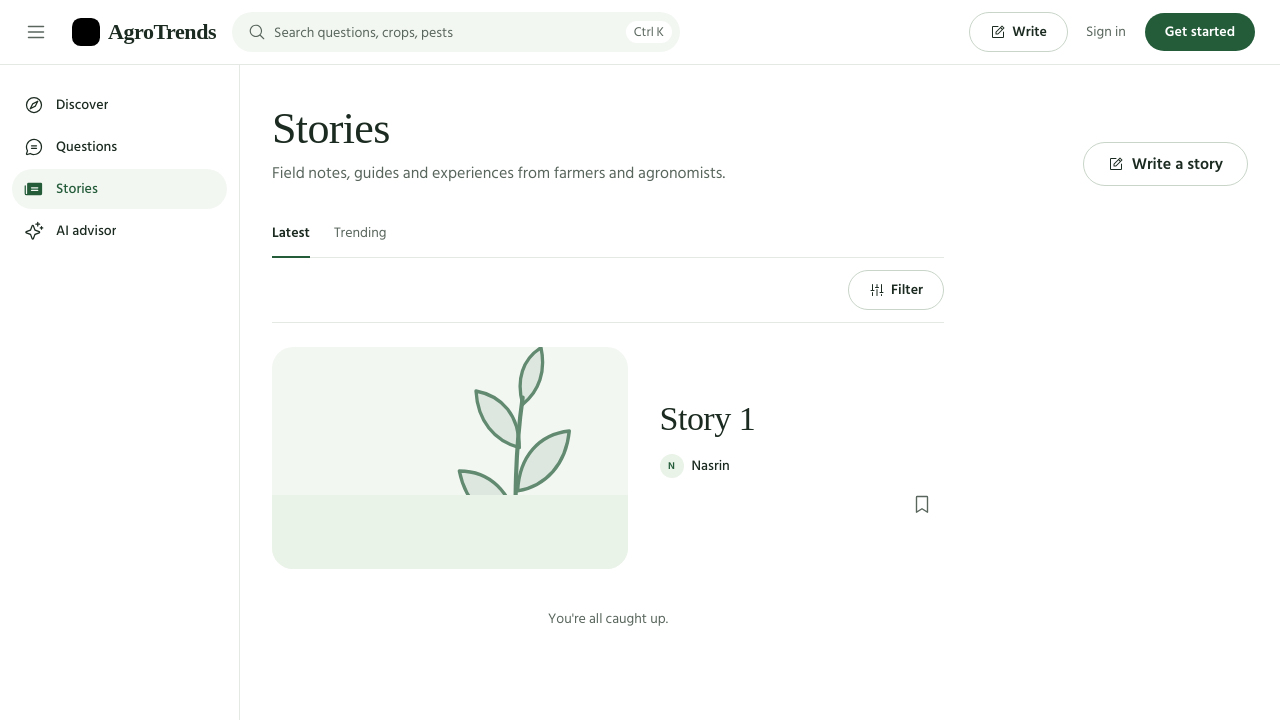
Test: choosing a season filters the stories, and removing it clears it
Check: the link "Story 1" is shown, box [660, 400, 755, 437]
Click the button with aria-label "Filter by crop, season, region or soil" at (896, 290), box [848, 270, 944, 310]
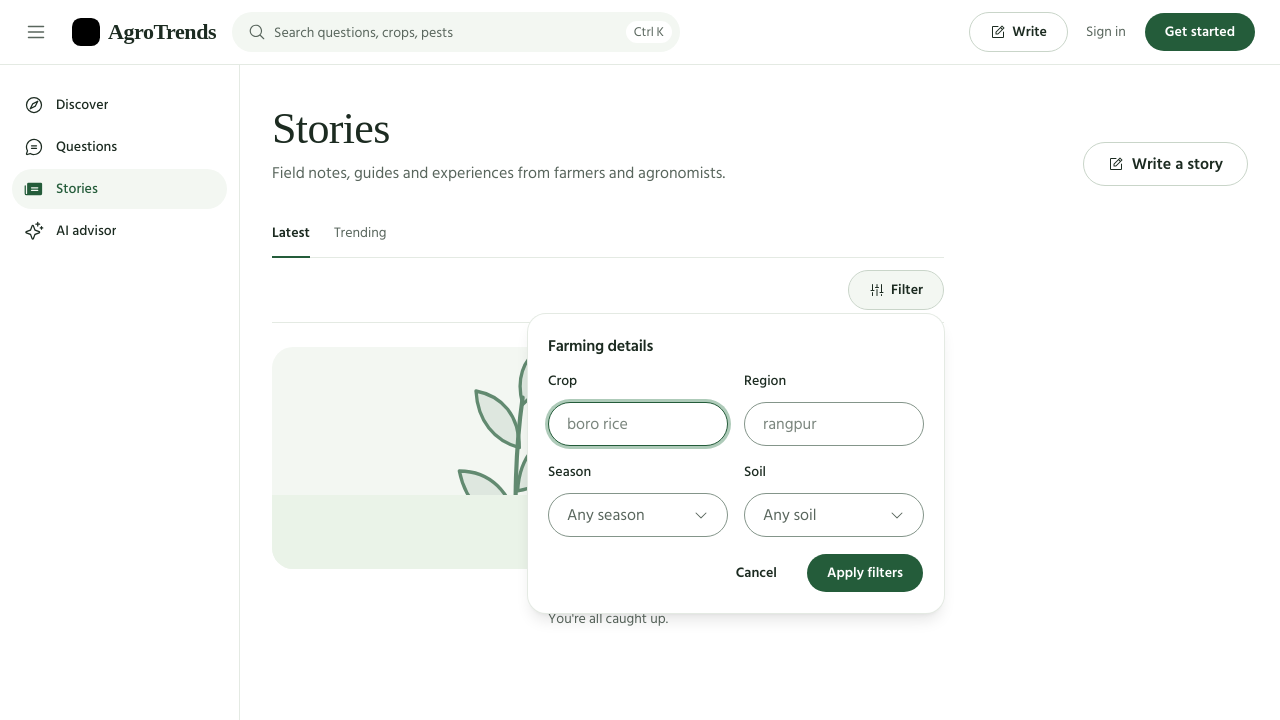
Click the dropdown labelled "season" at (638, 515), box [548, 493, 728, 537]
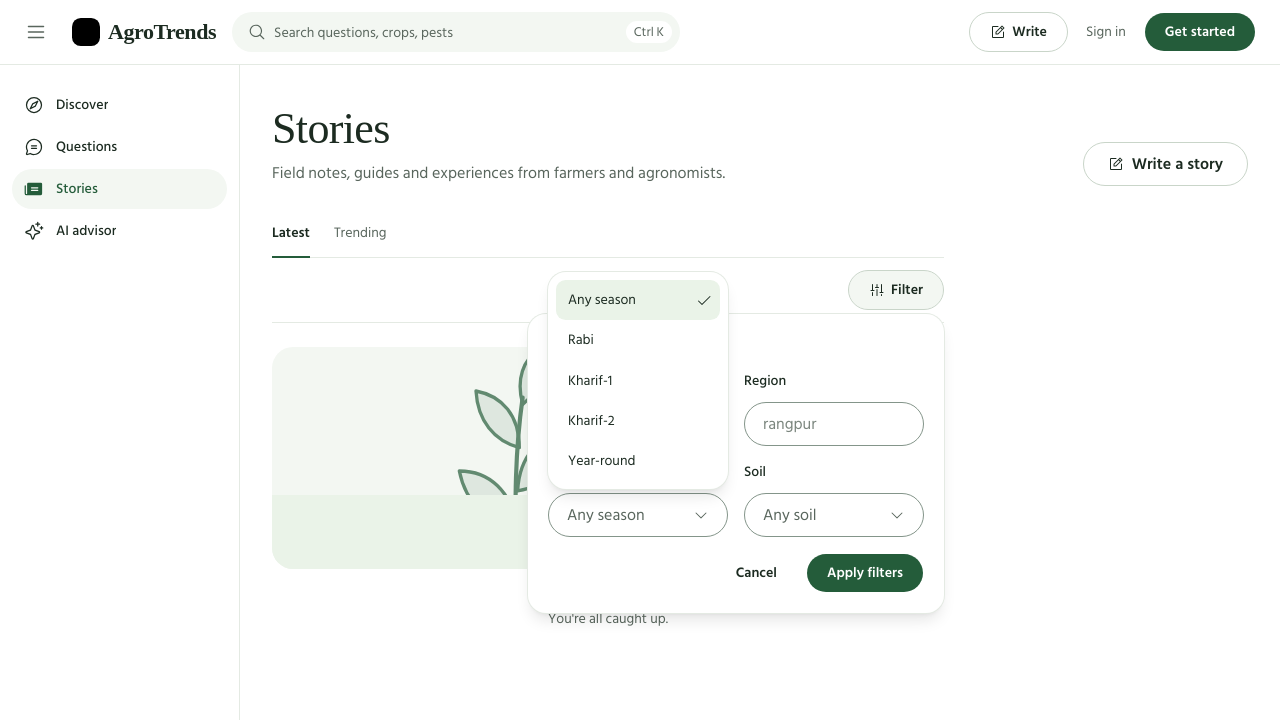
Click the option "Kharif-2" at (591, 420), box [568, 409, 615, 432]
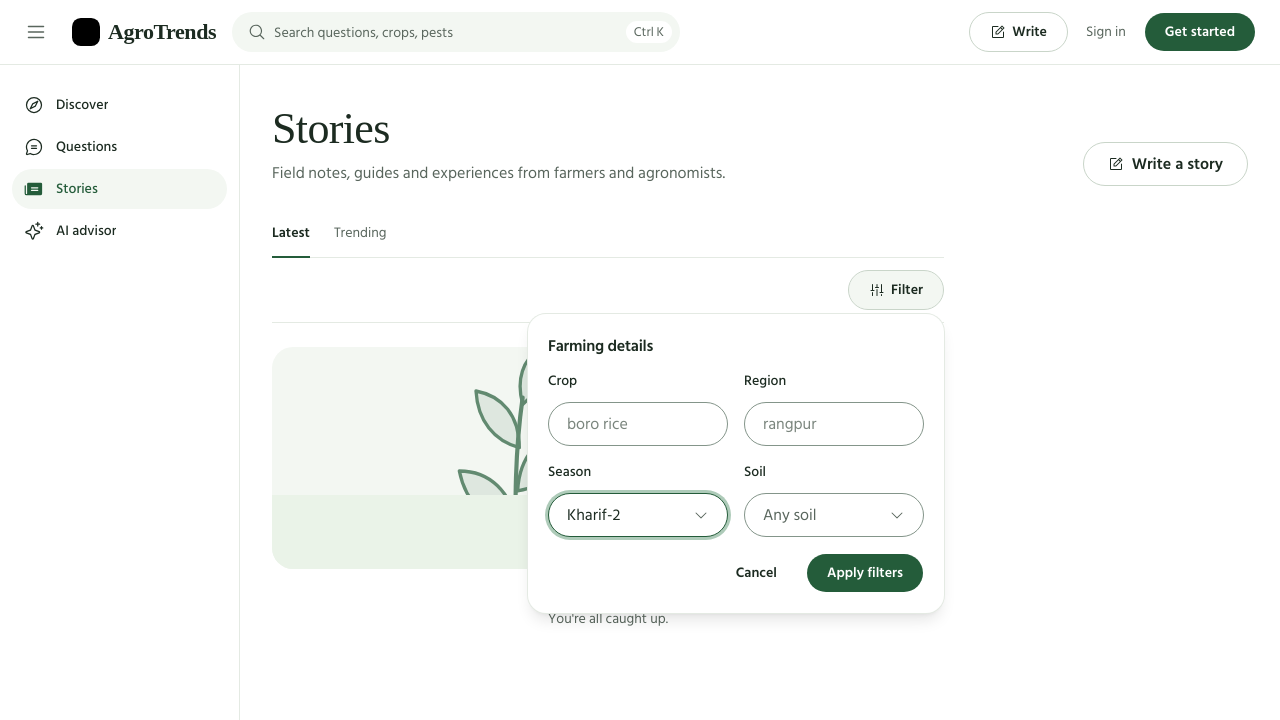
Click the button "Apply filters" at (865, 573), box [806, 553, 924, 593]
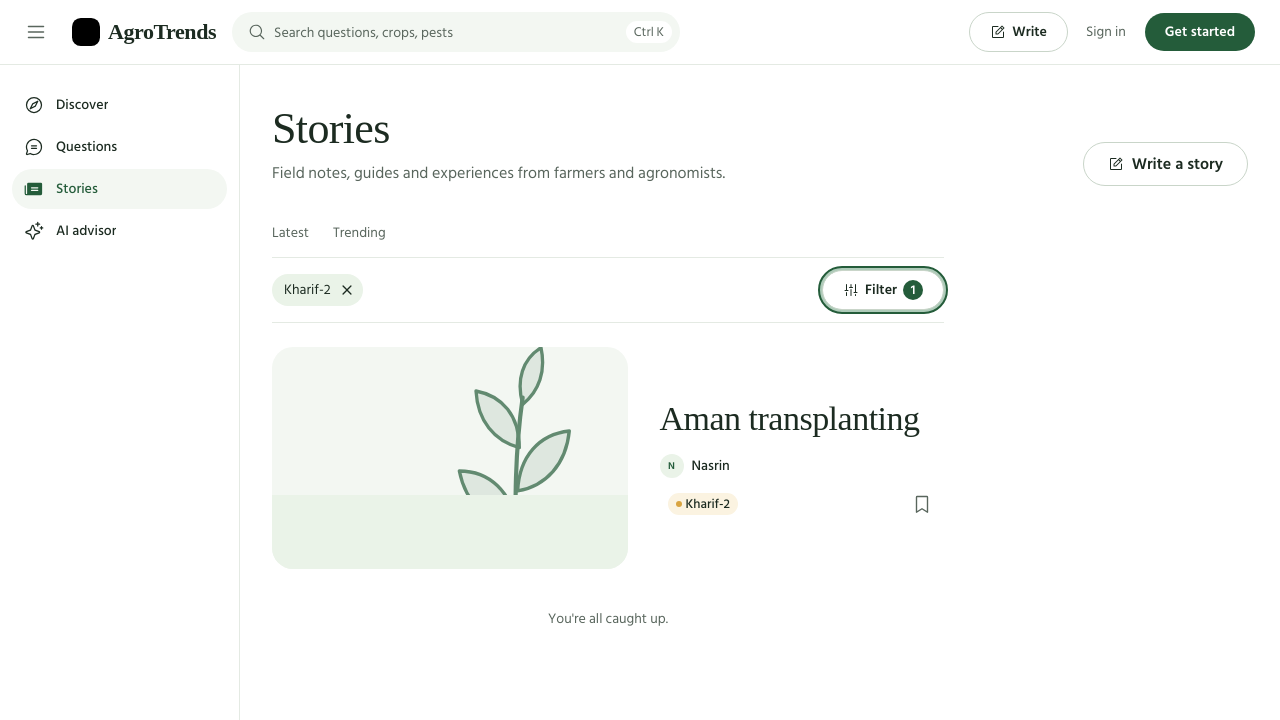
Check: the link "Aman transplanting" is shown, box [660, 400, 919, 437]
Click the link named "Remove filter season Kharif-2" at (347, 290), box [340, 283, 354, 297]
(page scrolled)
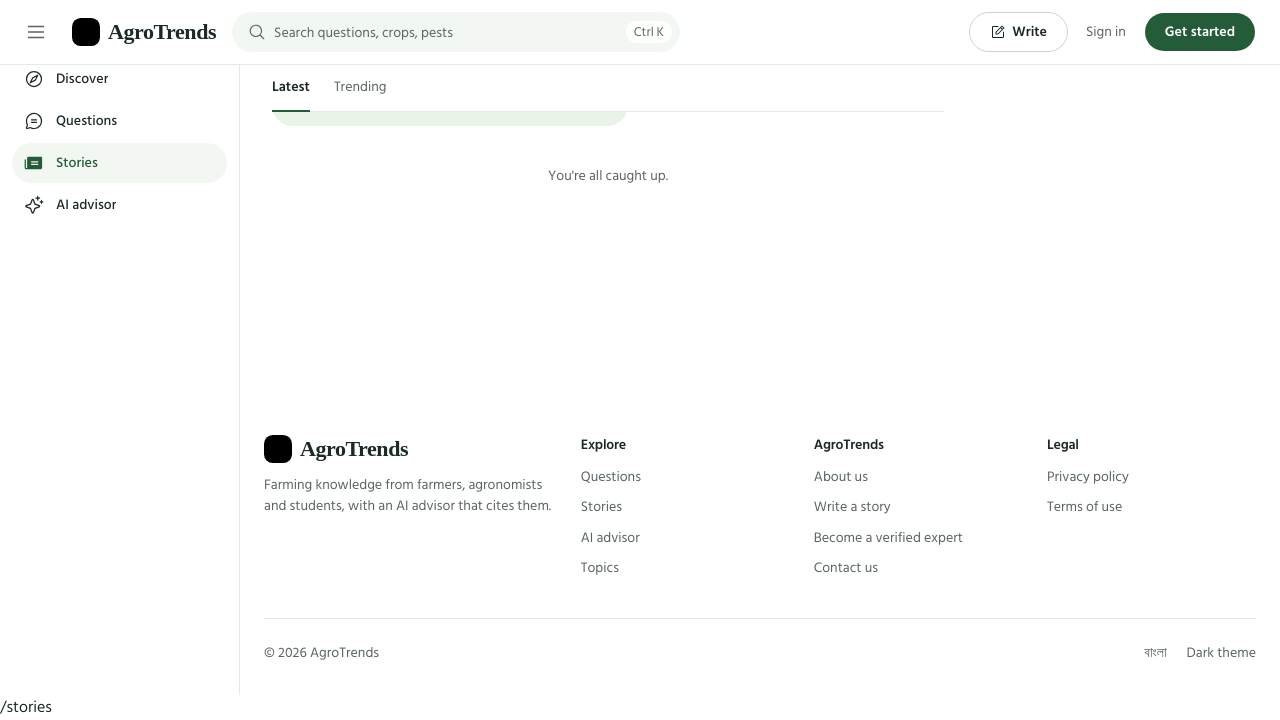
Check: the text with test id "path" reads "/stories", box [0, 694, 52, 719]
